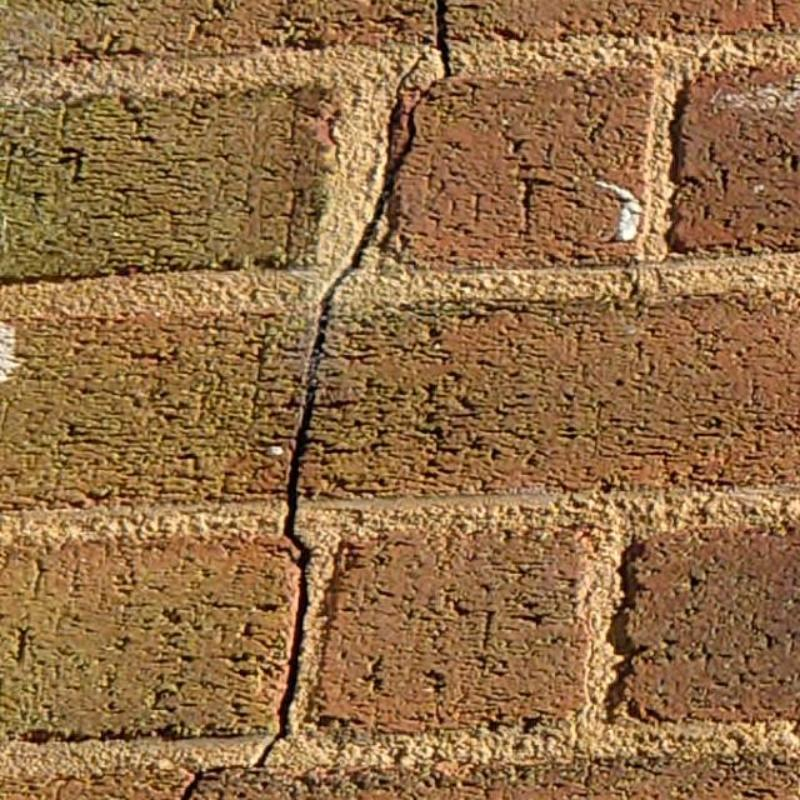pothole: (182, 82, 435, 799), (387, 0, 452, 163)
